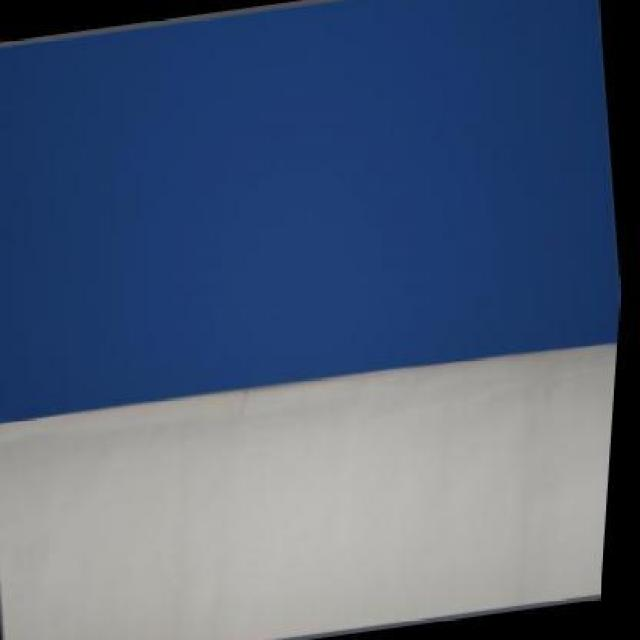Crack: (233, 384, 265, 411)
